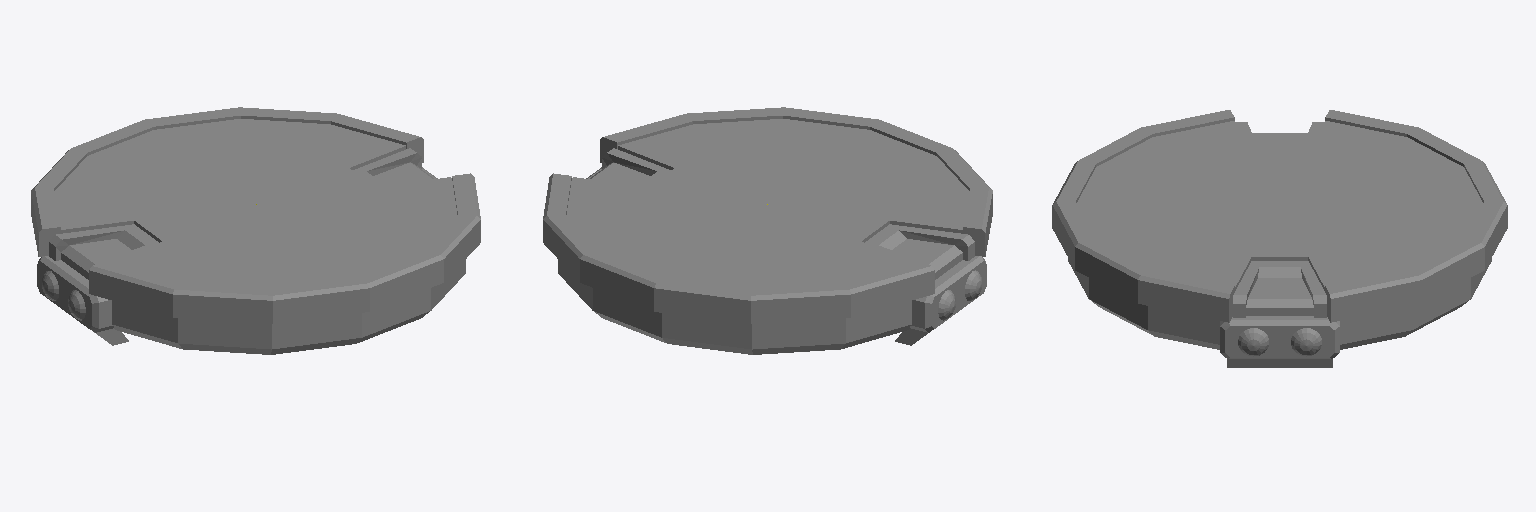
The model's file is cpz_obj_floorB_5b_M.obj.
3 views of the same model, side by side, from view 1: azimuth 30°, elevation 25°; view 2: azimuth 150°, elevation 25°; view 3: azimuth 270°, elevation 25° (orthographic).
Parts seen in each view (by area): view 1: cpz_metal_tn1_footholdA_floor, ccp_metal_yy_yelow_Cmn_dpn, cpz_metal_tn1_footholdA_001, cpz_metal_yc1_light01_IgnoL_d, cpz_etc_tn1_lamp_001; view 2: cpz_metal_tn1_footholdA_floor, ccp_metal_yy_yelow_Cmn_dpn, cpz_metal_tn1_footholdA_001, cpz_metal_yc1_light01_IgnoL_d, cpz_etc_tn1_lamp_001; view 3: cpz_metal_tn1_footholdA_floor, ccp_metal_yy_yelow_Cmn_dpn, cpz_metal_tn1_footholdA_001, cpz_metal_yc1_light01_IgnoL_d, cpz_etc_tn1_lamp_001.
Part boxes in pixels (left/top/right/bottom): cpz_metal_tn1_footholdA_floor: left=53, top=119, right=465, bottom=354; ccp_metal_yy_yelow_Cmn_dpn: left=31, top=107, right=480, bottom=323; cpz_metal_tn1_footholdA_001: left=37, top=148, right=451, bottom=345; cpz_metal_yc1_light01_IgnoL_d: left=61, top=162, right=433, bottom=279; cpz_etc_tn1_lamp_001: left=42, top=271, right=85, bottom=320; cpz_metal_tn1_footholdA_floor: left=558, top=119, right=970, bottom=354; ccp_metal_yy_yelow_Cmn_dpn: left=543, top=107, right=992, bottom=323; cpz_metal_tn1_footholdA_001: left=572, top=148, right=986, bottom=345; cpz_metal_yc1_light01_IgnoL_d: left=590, top=162, right=962, bottom=279; cpz_etc_tn1_lamp_001: left=938, top=270, right=981, bottom=320; cpz_metal_tn1_footholdA_floor: left=1068, top=121, right=1491, bottom=349; ccp_metal_yy_yelow_Cmn_dpn: left=1052, top=110, right=1507, bottom=322; cpz_metal_tn1_footholdA_001: left=1220, top=122, right=1339, bottom=367; cpz_metal_yc1_light01_IgnoL_d: left=1246, top=133, right=1313, bottom=315; cpz_etc_tn1_lamp_001: left=1238, top=328, right=1321, bottom=356.
Size of the model in its own units: 181 by 47.41 by 180.